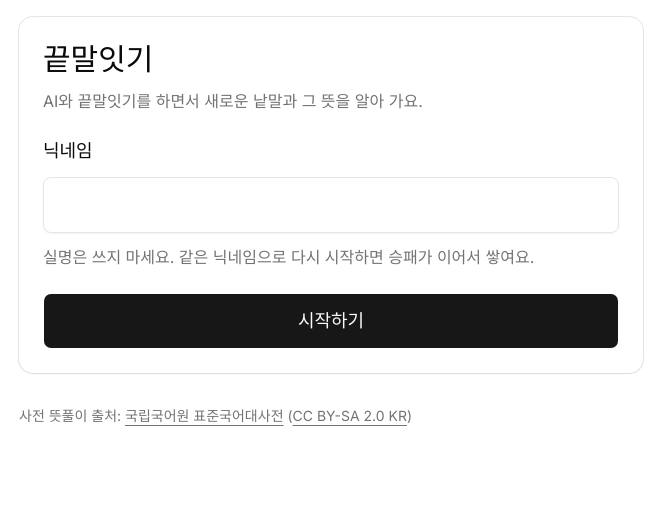
Test: 사전으로 단어 확인 › 사전에 없으면 안내가 나오고 기회가 줄어든다
The image size is (661, 509).
In the field labelled "닉네임": (331, 205) [43,177,619,233], type "하늘"
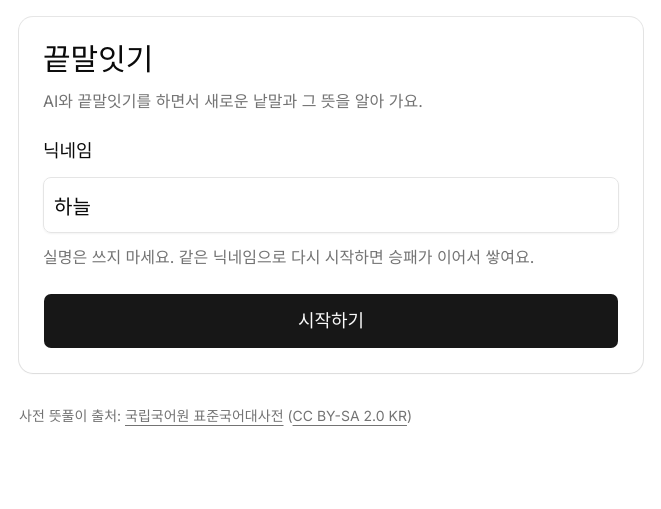
Click the button "시작하기": click(331, 321) [43,293,619,349]
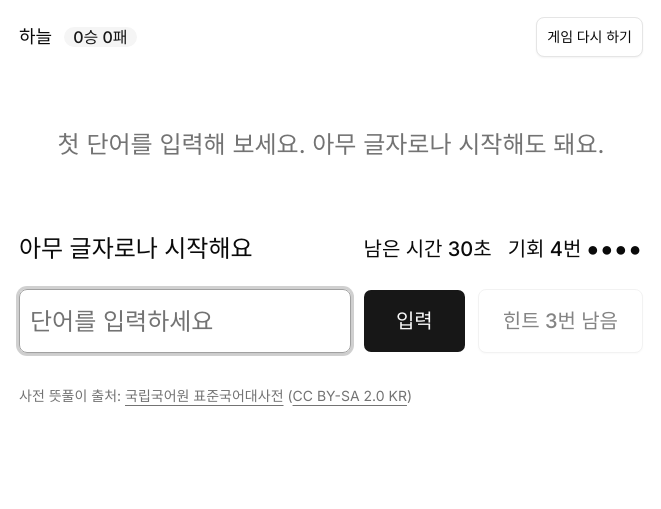
In the field named "단어 입력": (185, 321) [19,289,351,353], type "하하"
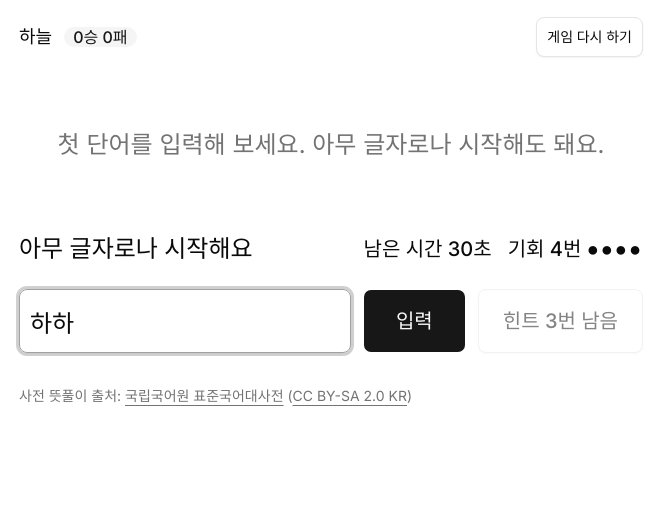
Click the button "입력": click(414, 321) [363,289,466,353]
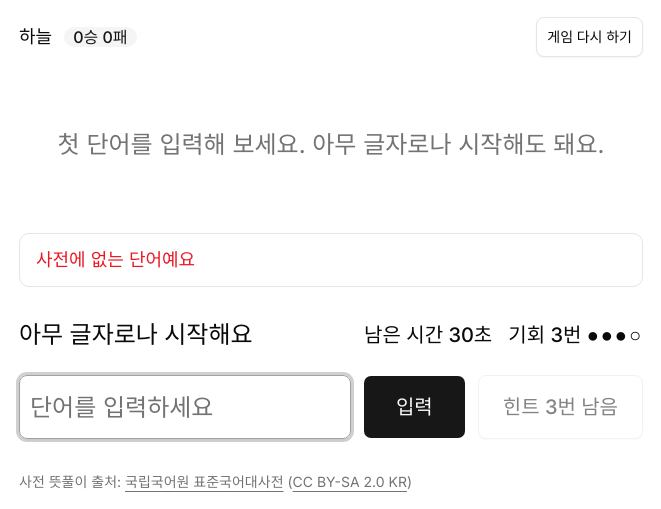
Expected: the field named "단어 입력" is enabled, [19,375,351,439]
Expected: the text "사전에 없는 단어예요" is shown, [36,249,195,270]
Expected: the text "기회 3번 ●●●○" is shown, [508,321,643,349]
